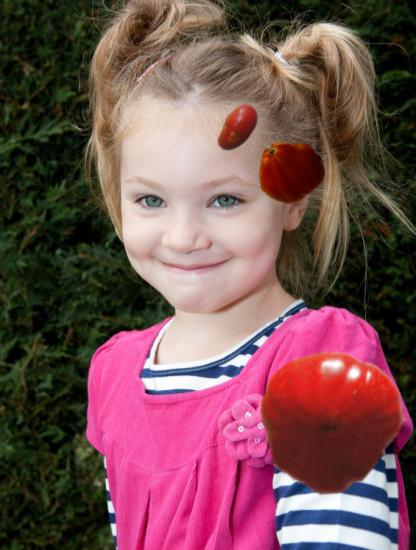Potato: (211, 101, 265, 155)
Tomato: (254, 344, 401, 491), (256, 137, 324, 205)
